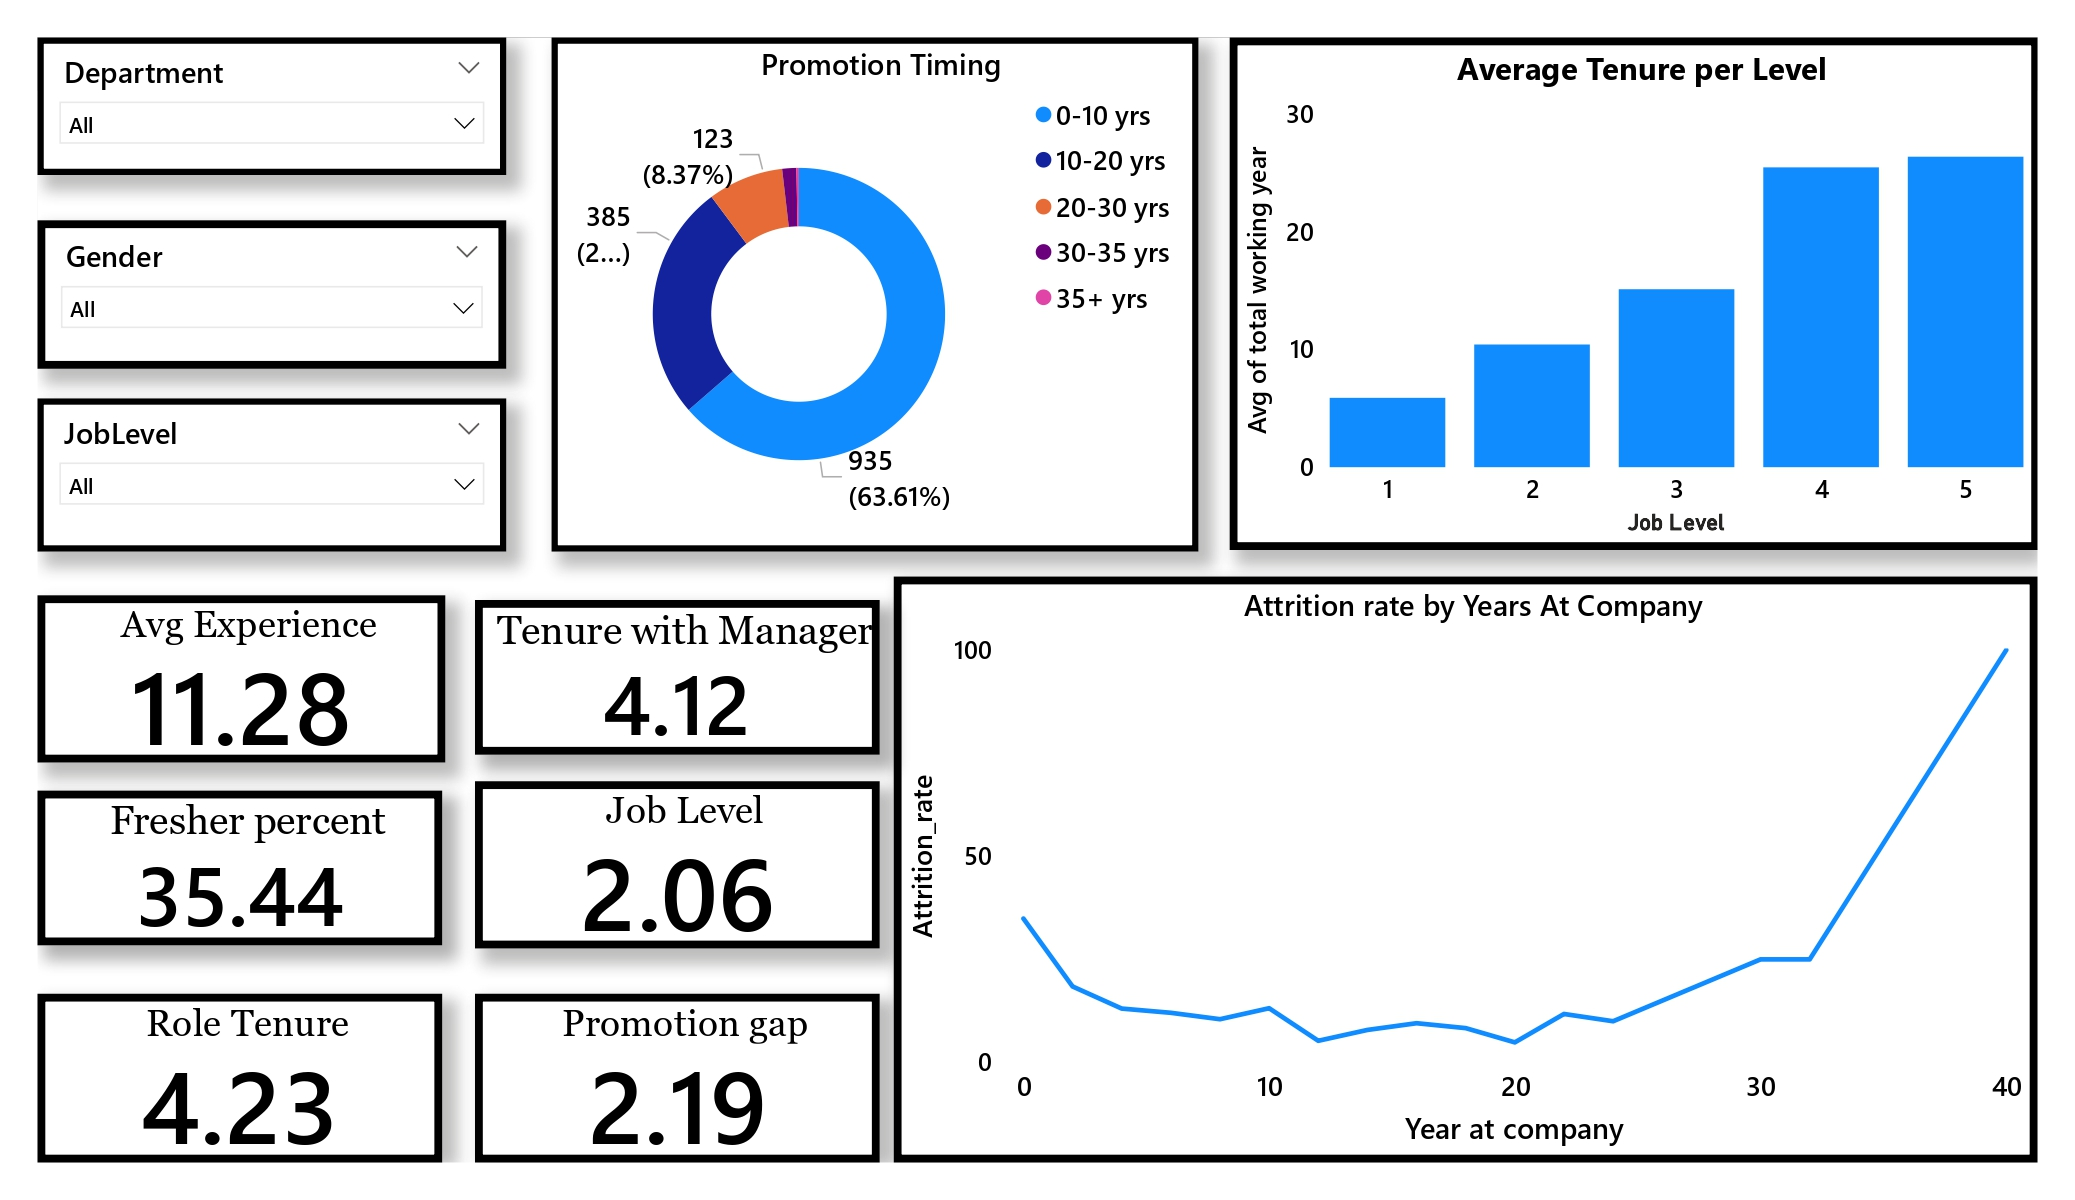

What the dashboard file says about the page in this screenshot:
{"tool":"powerbi","page":{"name":"Experience and growth","canvas":[1280,720],"ordinal":4},"visuals":[{"type":"actionButton","box":[55.3,8.5,215.4,107.7],"z":0},{"type":"actionButton","box":[55.3,157.3,223.9,107.7],"z":1000},{"type":"actionButton","box":[45.4,306.1,233.9,107.7],"z":2000},{"type":"actionButton","box":[55.4,316.1,233.9,107.7],"z":3000},{"type":"actionButton","box":[50.5,612.3,234.5,107.5],"z":4000},{"type":"card","title":"Avg Experience","fields":{"Values":["Avg(ibm data.TotalWorkingYears)"]},"box":[0,356.6,260.6,107.5],"z":5000},{"type":"card","title":"Role Tenure","fields":{"Values":["Avg(ibm data.YearsInCurrentRole)"]},"box":[0,612.3,258.9,107.5],"z":6000},{"type":"card","title":"Promotion gap","fields":{"Values":["Avg(ibm data.YearsSinceLastPromotion)"]},"box":[280.1,612.3,258.9,107.5],"z":7000},{"type":"card","title":" Job Level","fields":{"Values":["Avg(ibm data.JobLevel)"]},"box":[280.1,475.5,258.9,107.5],"z":8000},{"type":"clusteredColumnChart","title":"Average Tenure per Level","fields":{"Category":["ibm data.JobLevel"],"Y":["Avg(ibm data.TotalWorkingYears)"]},"box":[762.7,0,517.9,328.4],"z":9000},{"type":"donutChart","title":"Promotion Timing","fields":{"Category":["ibm data.Promotion_Bucket"],"Y":["CountNonNull(ibm data.Promotion_Bucket)"]},"box":[329,0,413.6,329],"z":10000},{"type":"lineChart","title":"Attrition rate by Years At Company ","fields":{"Y":["ibm data.Attrition_rate"],"Category":["ibm data.YearsAtCompany (bins)"]},"box":[548,345,732,375],"z":11000},{"type":"slicer","fields":{"Values":["ibm data.Department"]},"box":[0,0,299.8,88.3],"z":12000},{"type":"slicer","fields":{"Values":["ibm data.Gender"]},"box":[0,117.2,299.8,94.4],"z":13000},{"type":"slicer","fields":{"Values":["ibm data.JobLevel"]},"box":[0,231.2,299.6,97.7],"z":14000},{"type":"card","title":"Fresher percent","fields":{"Values":["ibm data.Fresher_percent"]},"box":[0,482,258.9,99.3],"z":15000},{"type":"card","title":"Tenure with Manager","fields":{"Values":["Avg(ibm data.YearsWithCurrManager)"]},"box":[280.1,359.9,258.9,99.3],"z":16000}]}

Visuals, with their boxes in screenshot pixels (x1, y1, x2, y2):
actionButton: (left=139, top=51, right=471, bottom=217)
actionButton: (left=139, top=280, right=485, bottom=446)
actionButton: (left=124, top=510, right=485, bottom=676)
actionButton: (left=139, top=525, right=500, bottom=691)
actionButton: (left=132, top=982, right=494, bottom=1148)
"Avg Experience" card: (left=54, top=588, right=456, bottom=753)
"Role Tenure" card: (left=54, top=982, right=453, bottom=1148)
"Promotion gap" card: (left=486, top=982, right=885, bottom=1148)
" Job Level" card: (left=486, top=771, right=885, bottom=937)
"Average Tenure per Level" clusteredColumnChart: (left=1230, top=38, right=2029, bottom=544)
"Promotion Timing" donutChart: (left=561, top=38, right=1199, bottom=545)
"Attrition rate by Years At Company " lineChart: (left=899, top=570, right=2028, bottom=1148)
slicer - ibm data.Department: (left=54, top=38, right=516, bottom=174)
slicer - ibm data.Gender: (left=54, top=219, right=516, bottom=364)
slicer - ibm data.JobLevel: (left=54, top=394, right=516, bottom=545)
"Fresher percent" card: (left=54, top=781, right=453, bottom=934)
"Tenure with Manager" card: (left=486, top=593, right=885, bottom=746)
